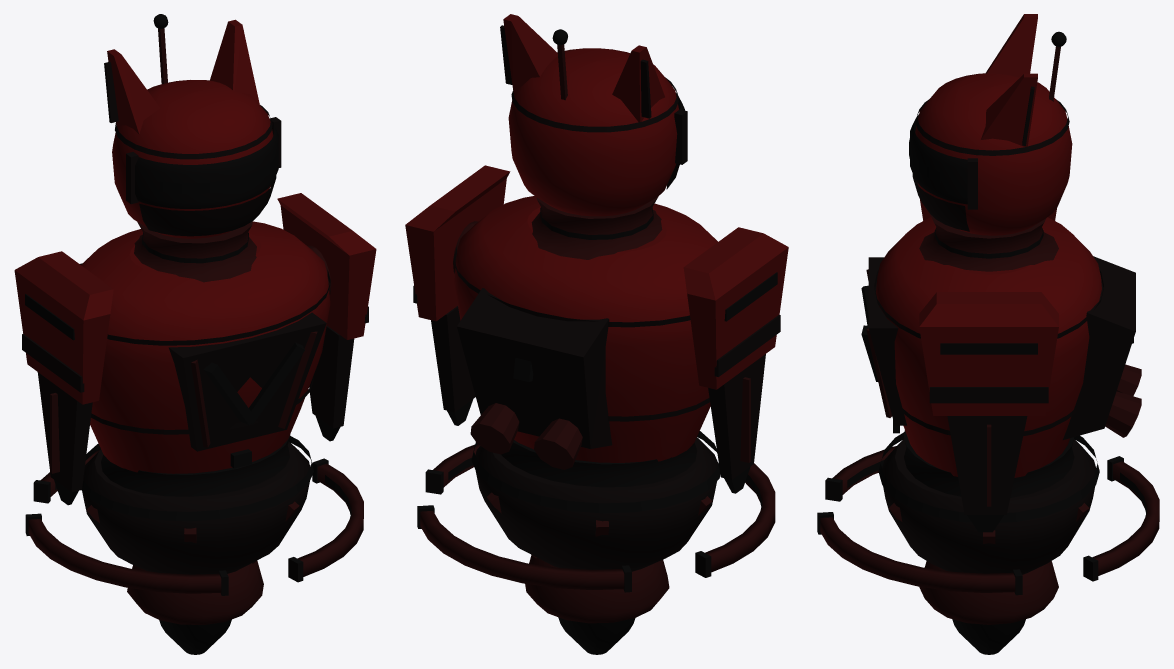
File: robo_treino.glb
3 views of the same model, side by side, from view 1: azimuth 30°, elevation 25°; view 2: azimuth 150°, elevation 25°; view 3: azimuth 270°, elevation 25° (orthographic). The views are drawn at different scales.
Visible parts, largest first — view 1: sz_lataria_branca_f_robo_5, sz_lataria_grafite_f_robo_3, sz_lataria_laranja_f_robo_7, sz_metal_cru_claro_f_robo_1, sz_metal_cru_claro_f_gira_10, sz_led_ciano_f_robo_4, sz_vidro_escuro_f_robo_8, sz_metal_pintado_escuro_f_robo_2, sz_led_laranja_f_robo_0, sz_metal_pintado_escuro_f_gira_12, sz_led_branco_f_robo_6; view 2: sz_lataria_branca_f_robo_5, sz_lataria_grafite_f_robo_3, sz_lataria_laranja_f_robo_7, sz_metal_cru_claro_f_robo_1, sz_metal_cru_claro_f_gira_10, sz_metal_pintado_escuro_f_robo_2, sz_led_ciano_f_robo_4, sz_led_laranja_f_robo_0, sz_metal_pintado_escuro_f_gira_12, sz_led_branco_f_robo_6; view 3: sz_lataria_branca_f_robo_5, sz_lataria_grafite_f_robo_3, sz_lataria_laranja_f_robo_7, sz_metal_cru_claro_f_robo_1, sz_metal_cru_claro_f_gira_10, sz_led_ciano_f_robo_4, sz_metal_pintado_escuro_f_robo_2, sz_vidro_escuro_f_robo_8, sz_led_laranja_f_robo_0, sz_metal_pintado_escuro_f_gira_12, sz_led_branco_f_robo_6, sz_led_ciano_f_gira_11.
Boxes of the visible parts, x1,y1,x2,y2 form: sz_lataria_branca_f_robo_5: (81, 80, 330, 473); sz_lataria_grafite_f_robo_3: (22, 30, 368, 574); sz_lataria_laranja_f_robo_7: (14, 19, 376, 404); sz_metal_cru_claro_f_robo_1: (50, 28, 331, 624); sz_metal_cru_claro_f_gira_10: (28, 449, 363, 593); sz_led_ciano_f_robo_4: (54, 153, 340, 521); sz_vidro_escuro_f_robo_8: (135, 126, 278, 208); sz_metal_pintado_escuro_f_robo_2: (101, 232, 290, 496); sz_led_laranja_f_robo_0: (159, 619, 231, 654); sz_metal_pintado_escuro_f_gira_12: (25, 458, 328, 595); sz_led_branco_f_robo_6: (25, 294, 251, 468); sz_lataria_branca_f_robo_5: (454, 48, 717, 462); sz_lataria_grafite_f_robo_3: (413, 25, 780, 571); sz_lataria_laranja_f_robo_7: (405, 14, 788, 389); sz_metal_cru_claro_f_robo_1: (453, 44, 750, 623); sz_metal_cru_claro_f_gira_10: (420, 444, 775, 589); sz_metal_pintado_escuro_f_robo_2: (501, 207, 696, 487); sz_led_ciano_f_robo_4: (447, 357, 750, 513); sz_led_laranja_f_robo_0: (558, 617, 635, 654); sz_metal_pintado_escuro_f_gira_12: (417, 469, 711, 592); sz_led_branco_f_robo_6: (724, 272, 777, 321); sz_lataria_branca_f_robo_5: (876, 73, 1101, 477); sz_lataria_grafite_f_robo_3: (868, 86, 1135, 574); sz_lataria_laranja_f_robo_7: (919, 14, 1058, 415); sz_metal_cru_claro_f_robo_1: (866, 46, 1141, 624); sz_metal_cru_claro_f_gira_10: (820, 446, 1159, 592); sz_led_ciano_f_robo_4: (861, 138, 1133, 532); sz_metal_pintado_escuro_f_robo_2: (903, 227, 1074, 497); sz_vidro_escuro_f_robo_8: (910, 114, 967, 204); sz_led_laranja_f_robo_0: (952, 619, 1025, 654); sz_metal_pintado_escuro_f_gira_12: (817, 456, 1123, 595); sz_led_branco_f_robo_6: (893, 343, 1037, 433); sz_led_ciano_f_gira_11: (847, 460, 1146, 516).
Bounding box in the file's own units: 0.98 × 1.95 × 0.9793.
1 material, 1 textured.
